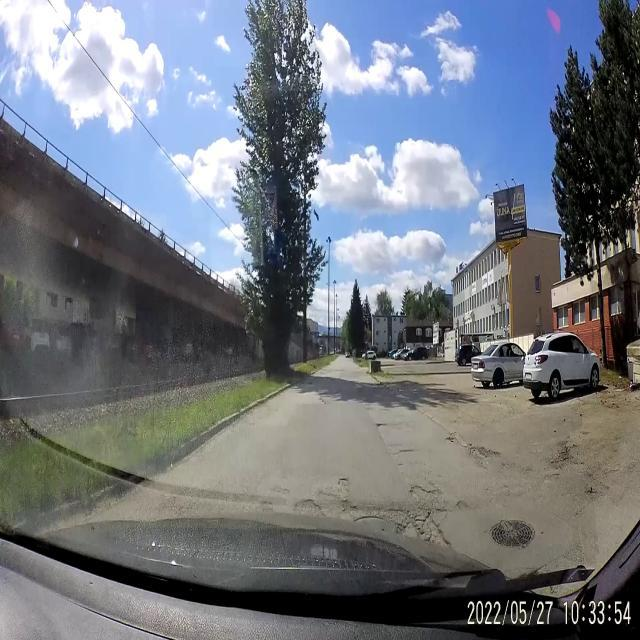Manhole: (489, 512, 535, 550), (353, 514, 396, 536)
Pothole: (404, 484, 448, 534), (548, 432, 576, 480), (464, 441, 502, 468), (292, 492, 324, 521), (394, 440, 418, 458), (444, 430, 460, 448), (374, 421, 392, 434), (336, 474, 349, 490)
